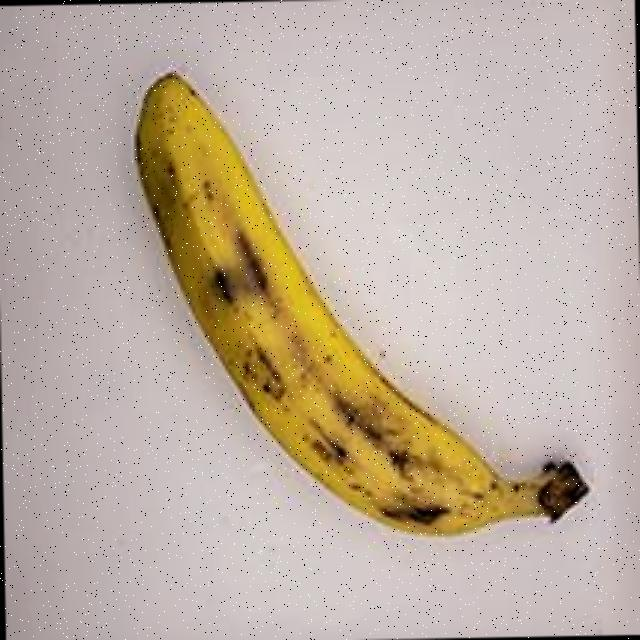Overripe: (102, 36, 594, 566)
